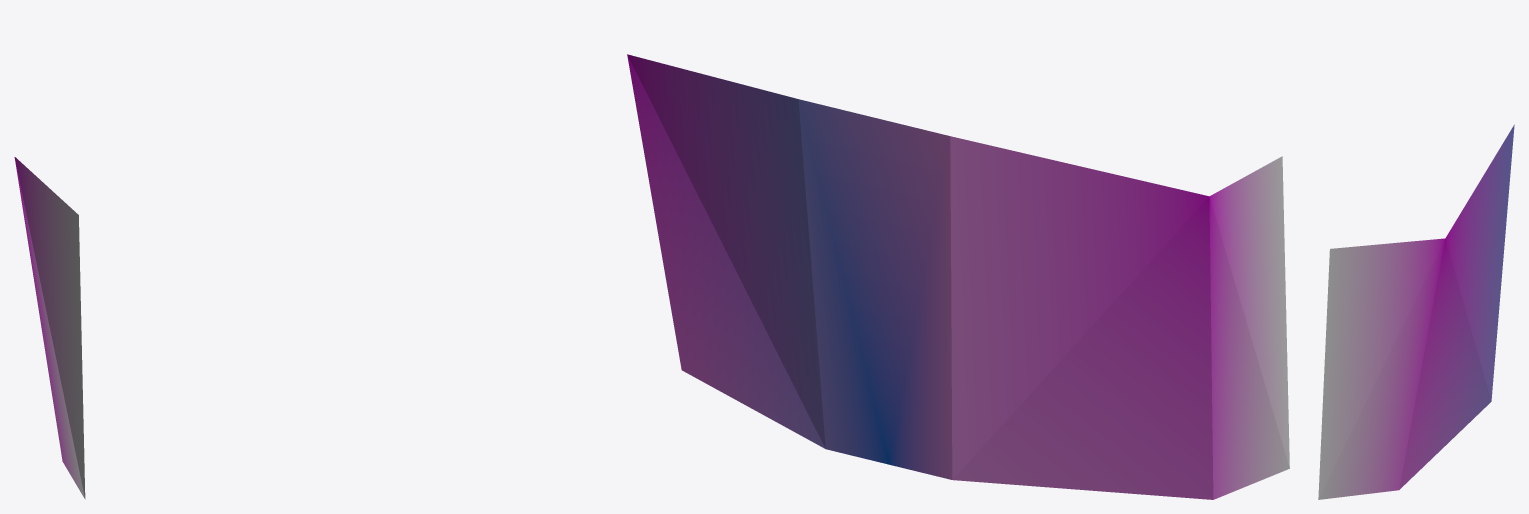
3 renders of one model, left to right at view 1: azimuth 30°, elevation 25°; view 2: azimuth 150°, elevation 25°; view 3: azimuth 270°, elevation 25°, orthographic. The views are drawn at different scales.
Visible parts, largest first — view 1: model_1149; view 2: model_1149; view 3: model_1149.
Boxes of the visible parts, left/top/right/bottom form: model_1149: left=14, top=157, right=85, bottom=499; model_1149: left=627, top=54, right=1289, bottom=499; model_1149: left=1318, top=124, right=1514, bottom=499.
Bounding box in the file's own units: 46 × 28 × 17.
